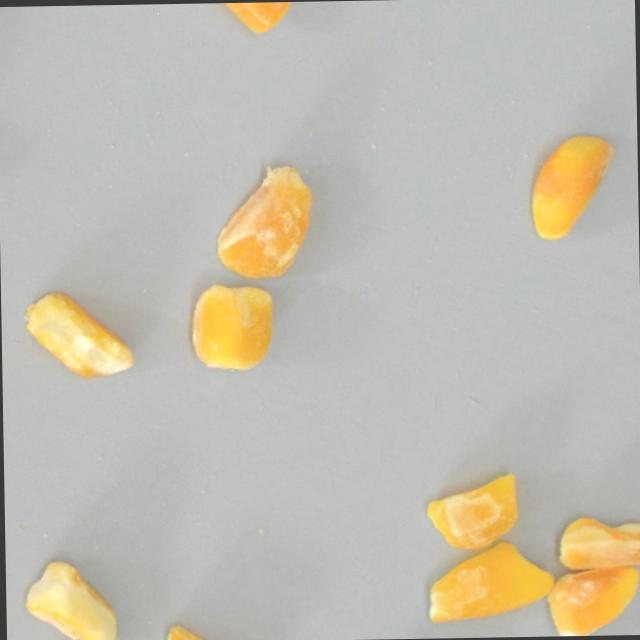no_canjicado: (189, 282, 274, 372)
pelicula: (214, 162, 315, 279), (427, 539, 556, 628), (23, 289, 135, 381), (530, 134, 617, 241), (24, 554, 120, 640), (424, 469, 519, 551), (547, 564, 640, 636), (555, 513, 640, 570), (191, 0, 292, 36), (166, 622, 261, 640)
